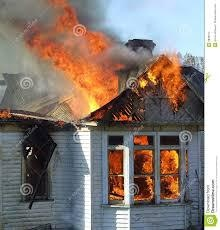fire: (22, 0, 125, 119), (109, 133, 182, 202), (136, 50, 187, 110)
